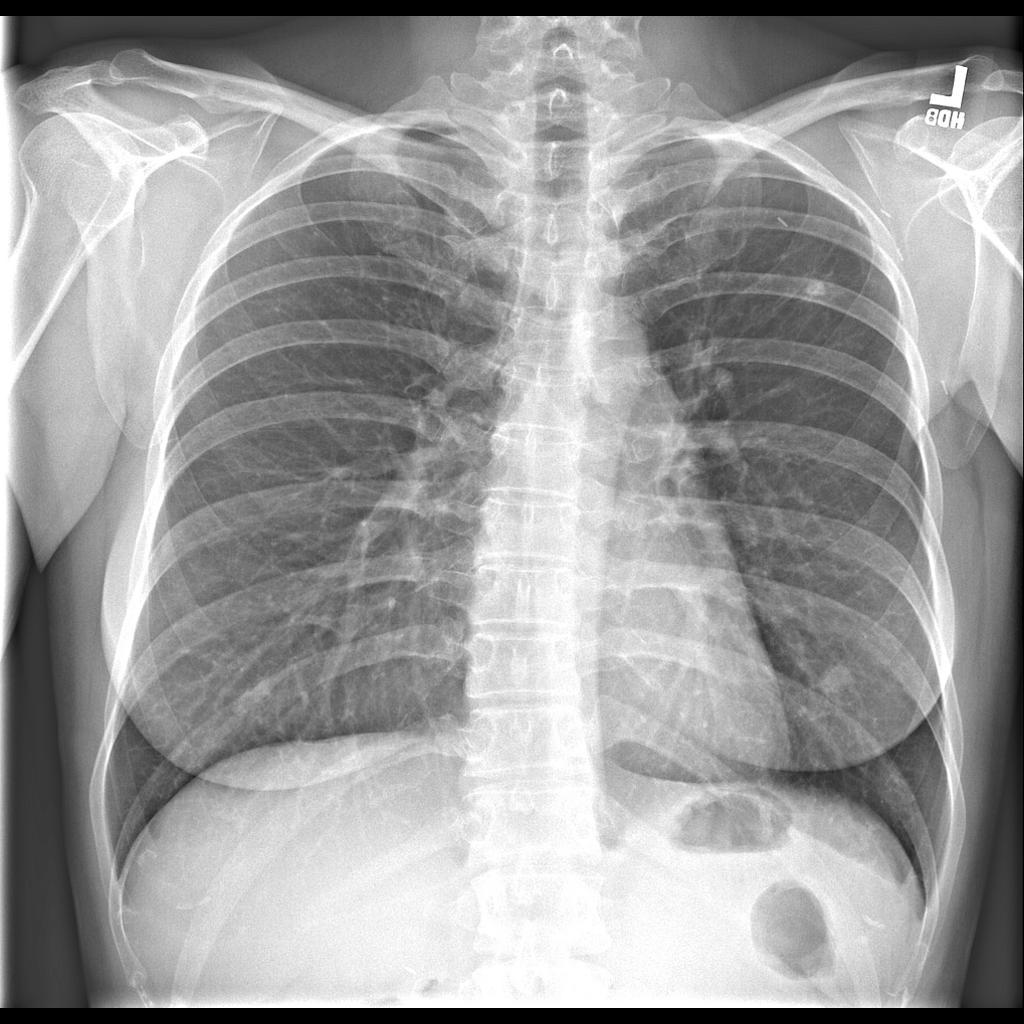Nodule: (816, 658, 862, 705)
